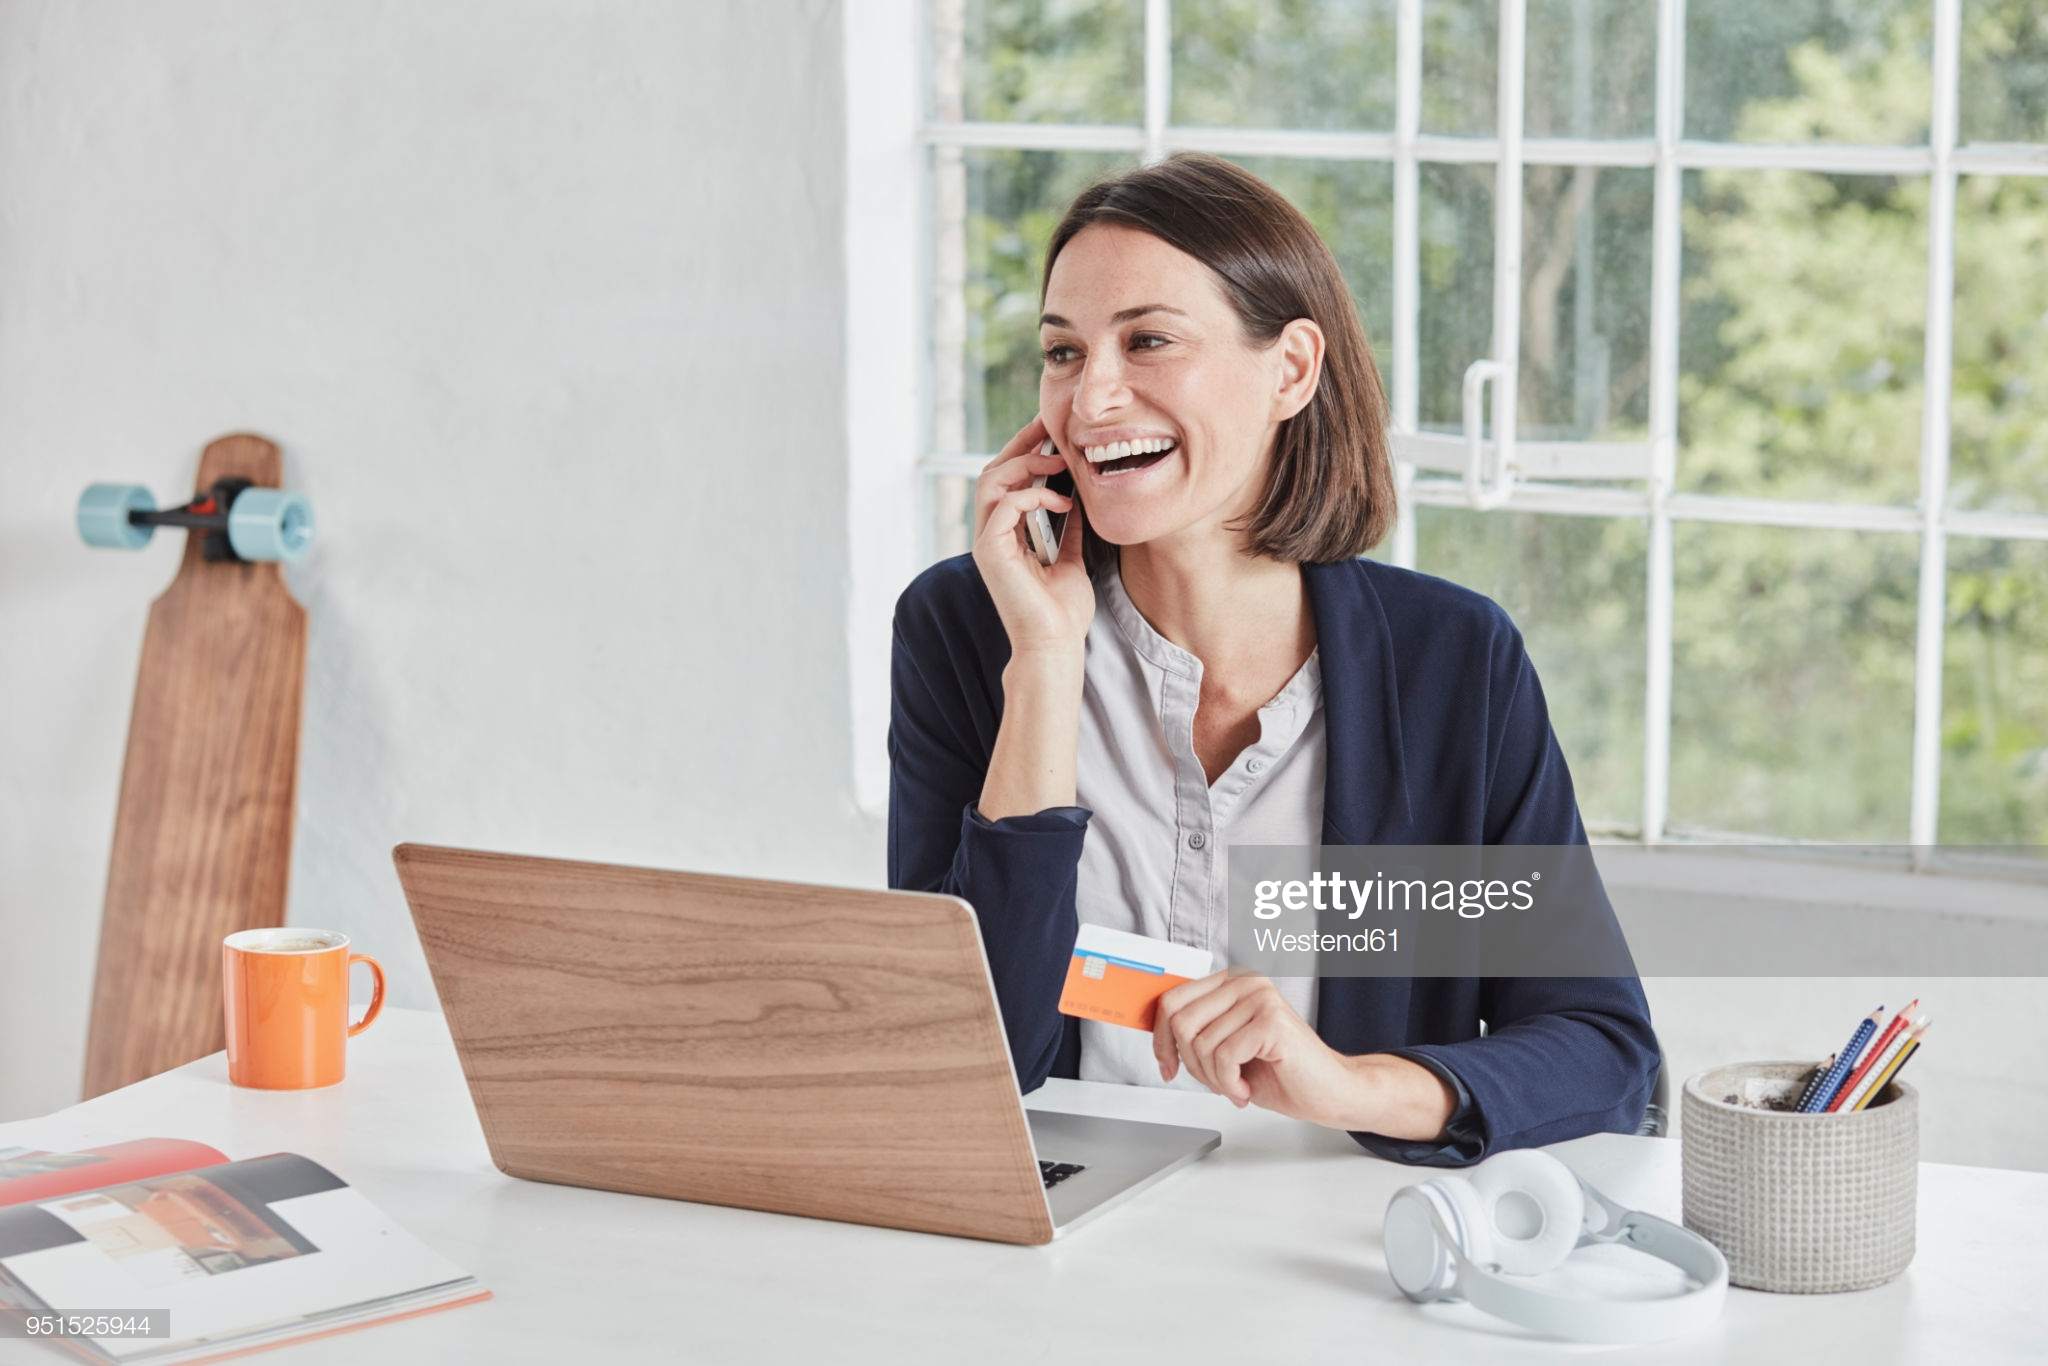phone: (986, 393, 1093, 584)
talk: (952, 277, 1266, 634)
